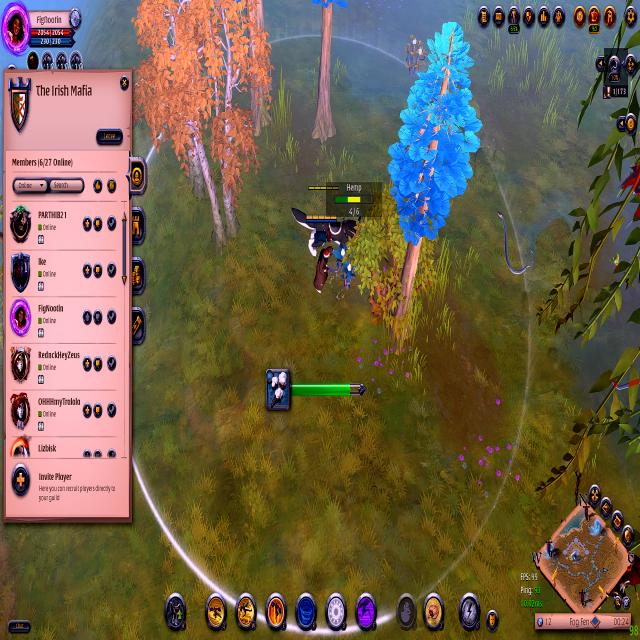hide: (332, 238, 364, 292), (402, 28, 429, 79)
ore: (607, 527, 640, 607), (616, 155, 640, 239)
wisp caged: (129, 0, 274, 252), (387, 16, 481, 364), (304, 0, 350, 149), (239, 0, 277, 137), (306, 212, 338, 294)
